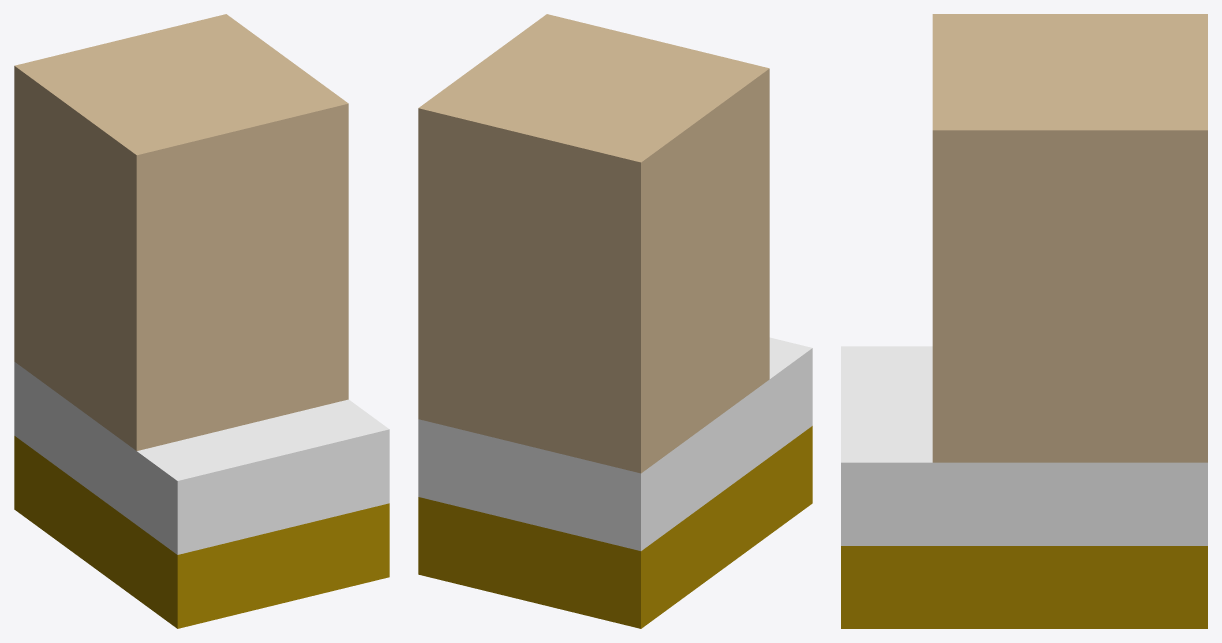
Rendered from zunko_LegL.obj.
3 renders of one model, left to right at view 1: azimuth 30°, elevation 25°; view 2: azimuth 150°, elevation 25°; view 3: azimuth 270°, elevation 25°, orthographic. The views are drawn at different scales.
Parts seen in each view (by area): view 1: zunko_LegL; view 2: zunko_LegL; view 3: zunko_LegL.
Boxes of the visible parts, bbox=[...] form: zunko_LegL: bbox=[14, 14, 389, 628]; zunko_LegL: bbox=[418, 14, 812, 628]; zunko_LegL: bbox=[841, 14, 1207, 628].
Bounding box in the file's own units: 3 × 6 × 4.
1 material, 1 textured.
